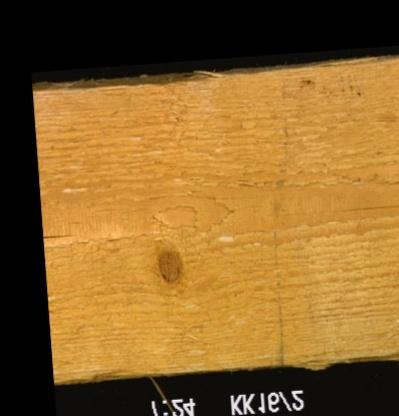sound_knot: (154, 246, 183, 284)
split: (43, 230, 86, 246)
wave: (37, 73, 224, 93)
